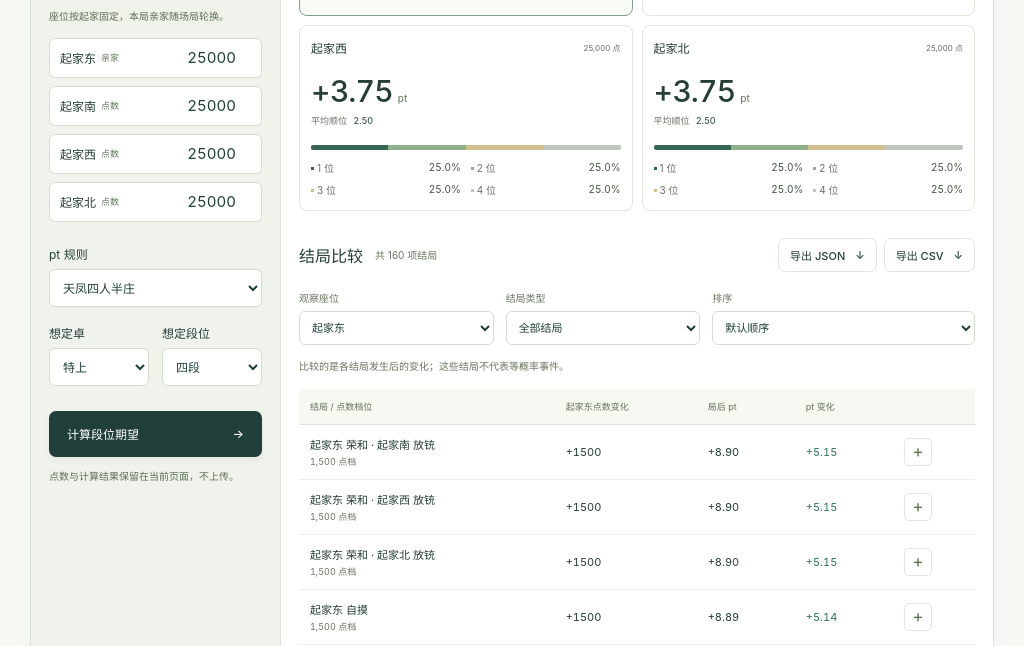
Test: computes a custom pt table and exposes terminal details
(page scrolled)
Select "自定义顺位 pt" in the dropdown labelled "pt 规则" at (156, 288), box [49,269,262,307]
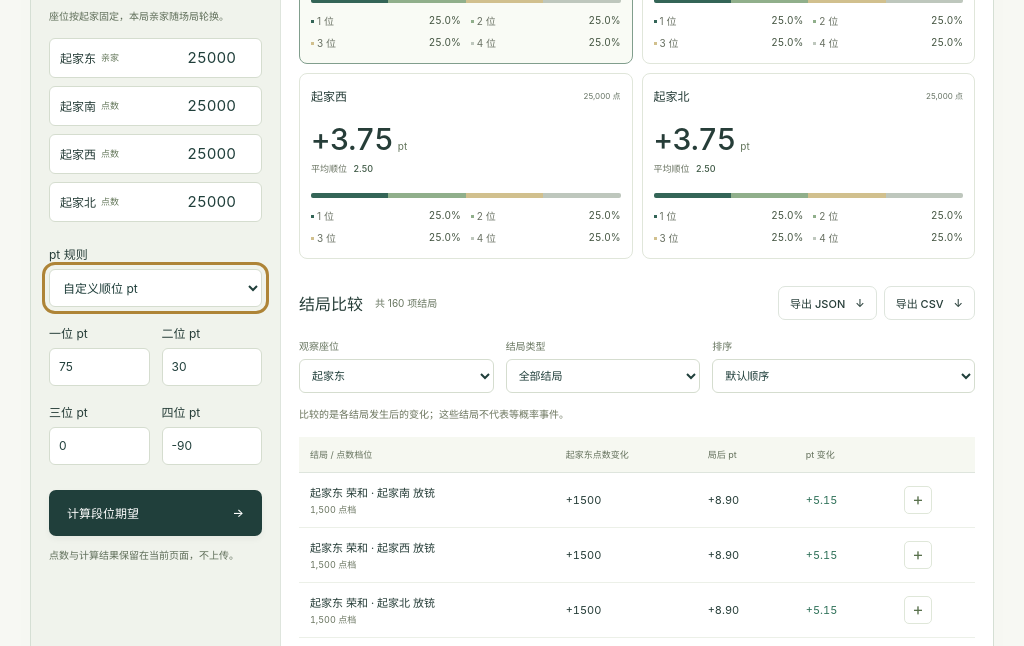
Replace the text in the number field labelled "四位 pt" with "-105" at (212, 446), box [162,427,262,465]
(page scrolled)
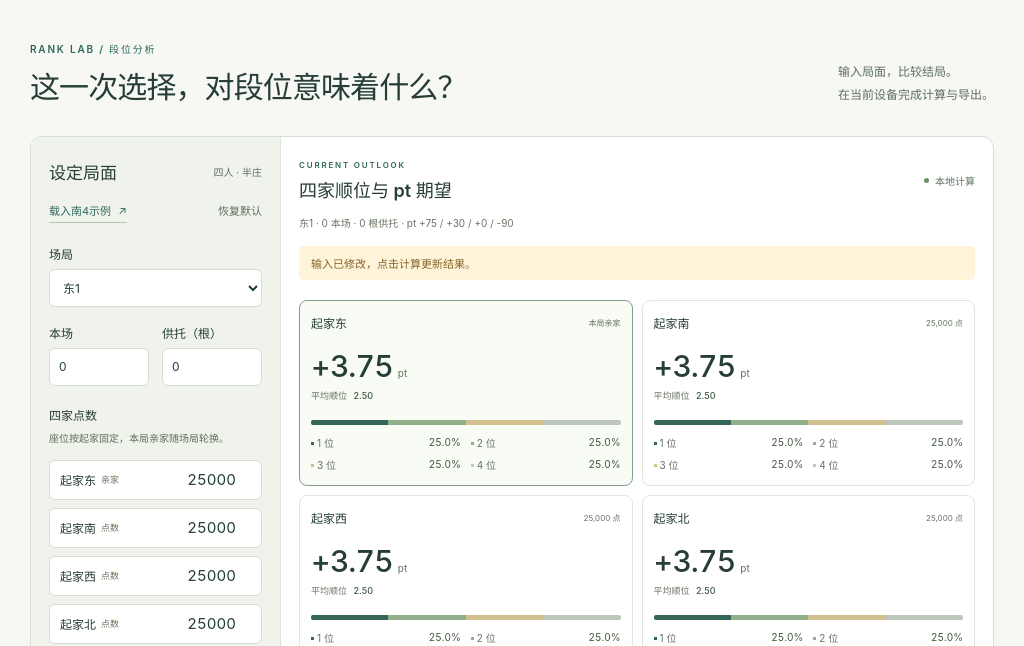
Select "西4" in the dropdown labelled "场局" at (156, 288), box [49,269,262,307]
(page scrolled)
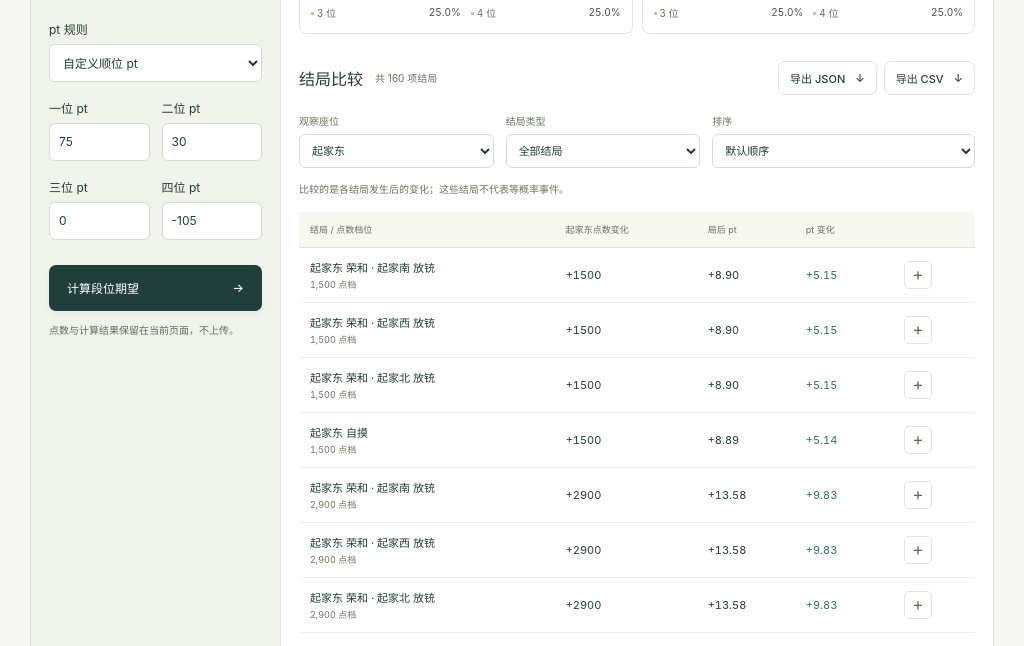
Click the button "计算段位期望 →" at (156, 288), box [49,265,262,311]
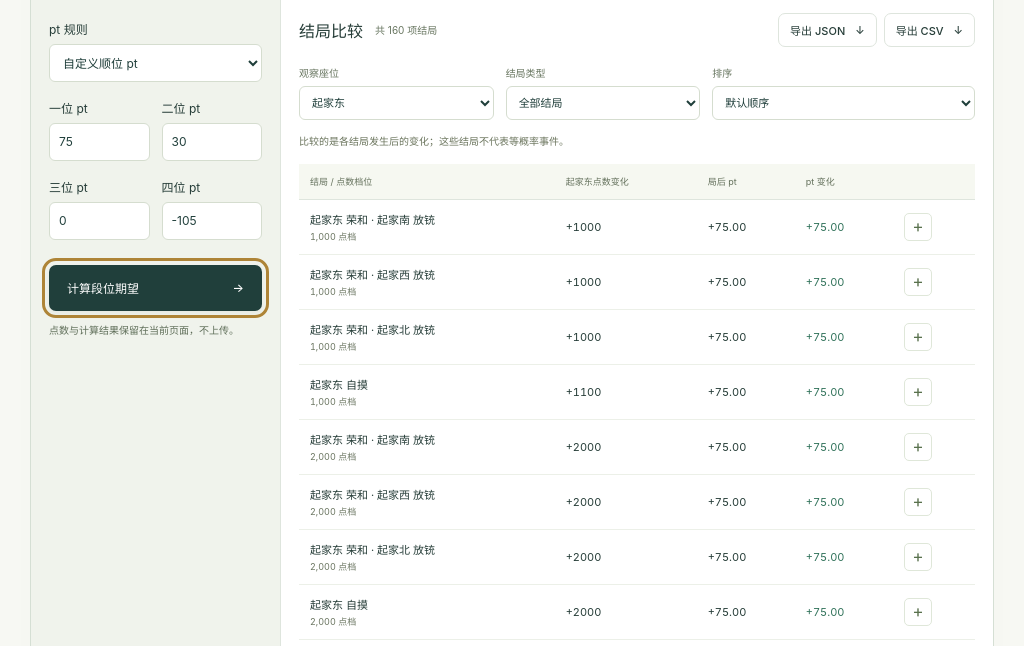
Click the button named "查看结局" at (918, 227), box [904,213,932,241]
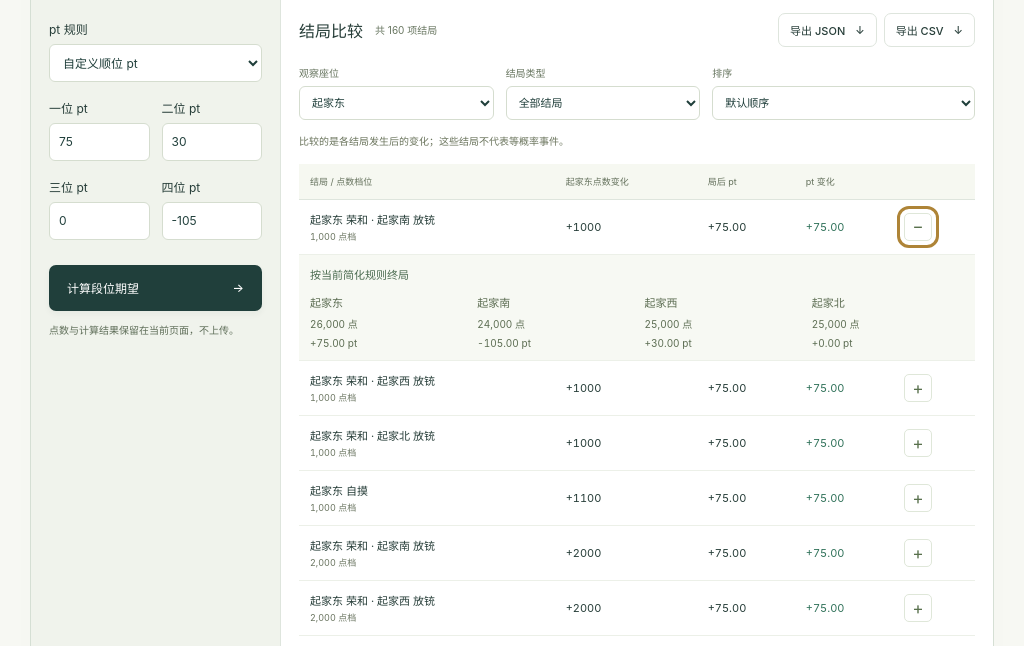
Check: the text "按当前简化规则终局" is shown, box [310,268,409,282]
